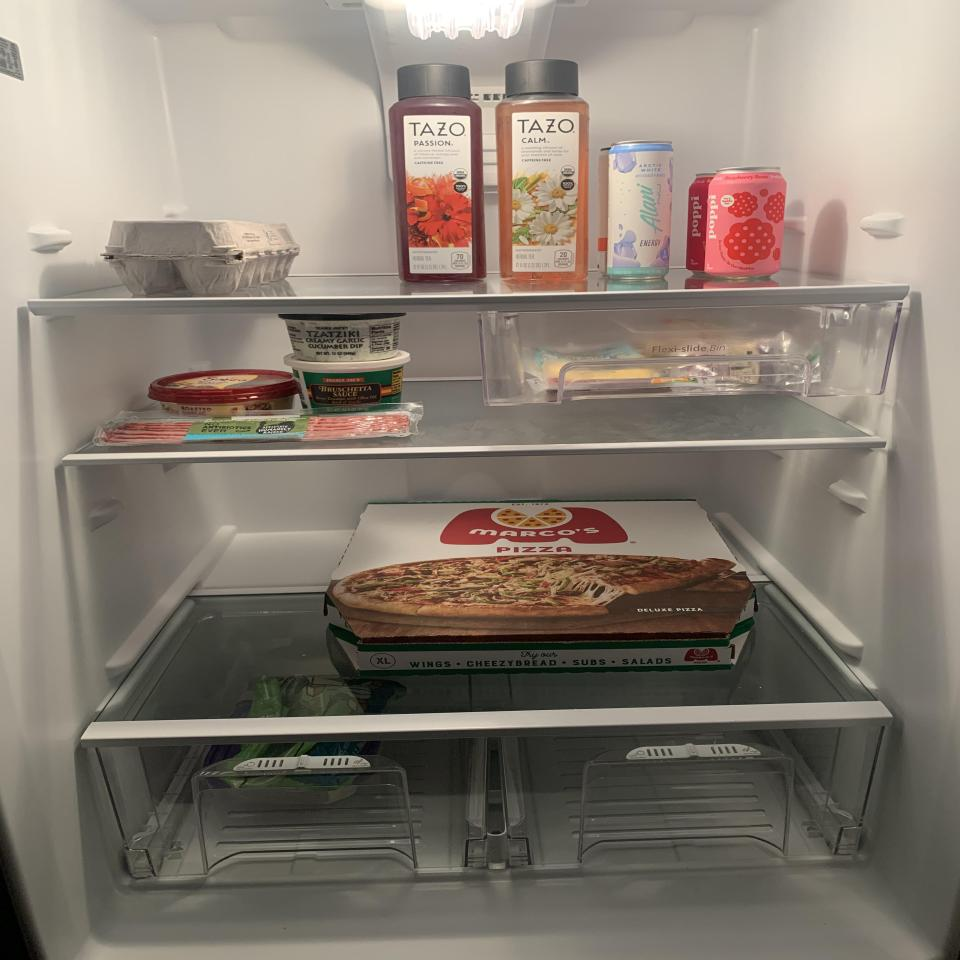Huevos: (102, 220, 302, 295)
